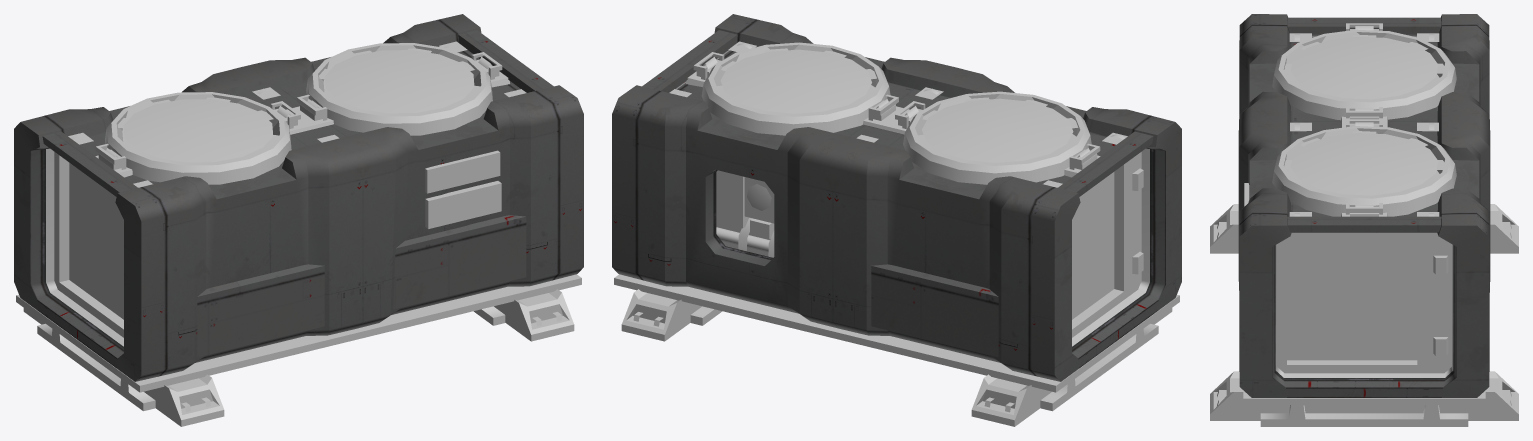
The model's file is Prop8_L2.fbx.
3 renders of one model, left to right at view 1: azimuth 30°, elevation 25°; view 2: azimuth 150°, elevation 25°; view 3: azimuth 270°, elevation 25°, orthographic. The views are drawn at different scales.
Parts seen in each view (by area): view 1: polySurface2721; view 2: polySurface2721; view 3: polySurface2721.
Part boxes in pixels (x1,y1,x2,y2): polySurface2721: [14, 14, 583, 426]; polySurface2721: [612, 14, 1181, 426]; polySurface2721: [1210, 14, 1518, 426].
Bounding box in the file's own units: 253 × 119 × 155.
